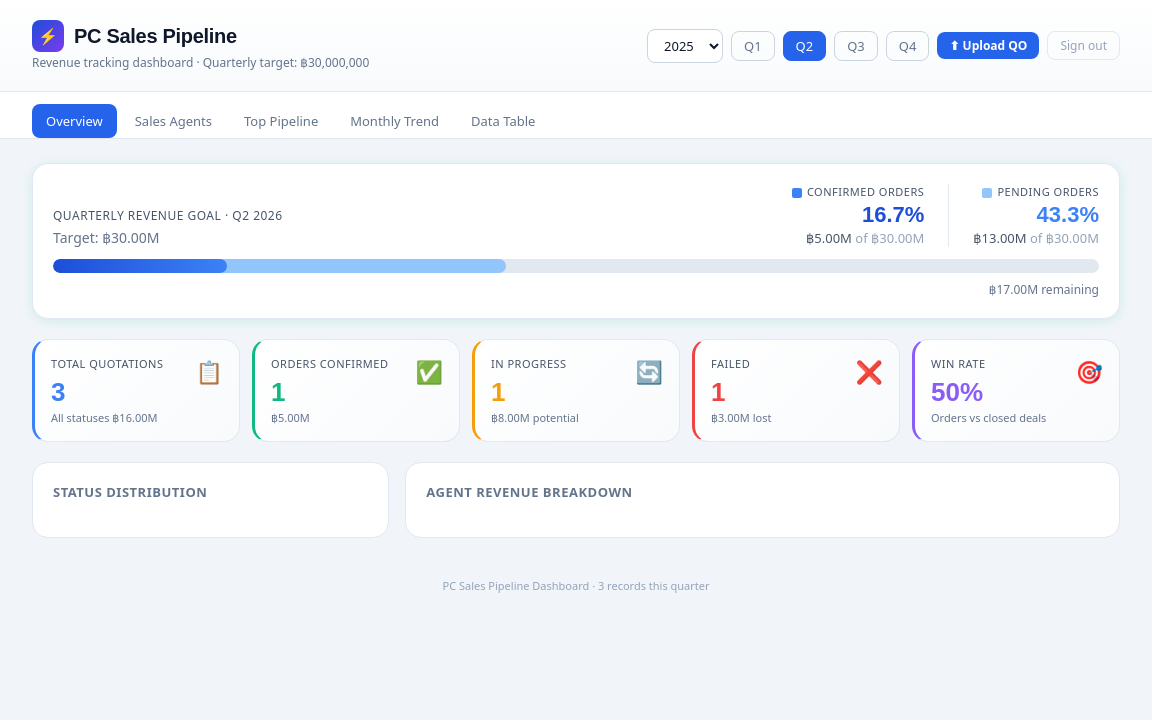
Test case: Dashboard › Monthly Trend Tab › renders monthly revenue breakdown
Expected: the heading "PC Sales Pipeline" is shown, [74, 24, 237, 48]
Click the button "Monthly Trend": click(395, 121) [336, 104, 453, 138]
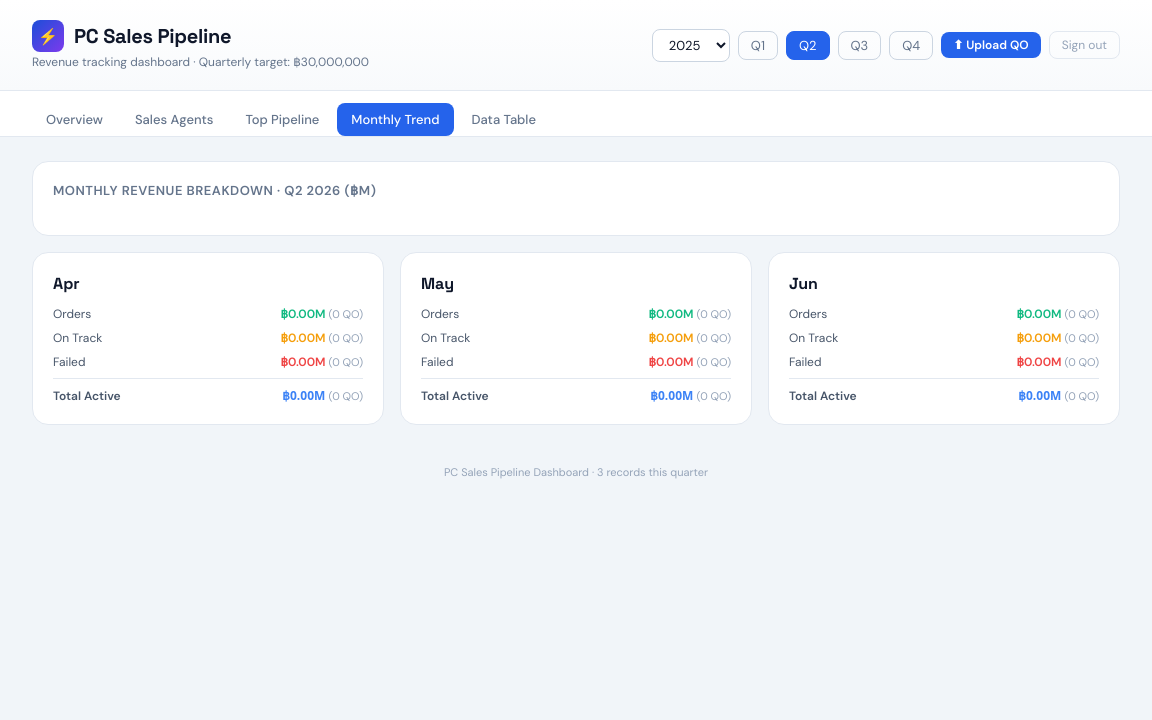
Expected: the text "Monthly Revenue Breakdown · Q2 2026 (฿M)" is shown, [53, 182, 376, 199]
